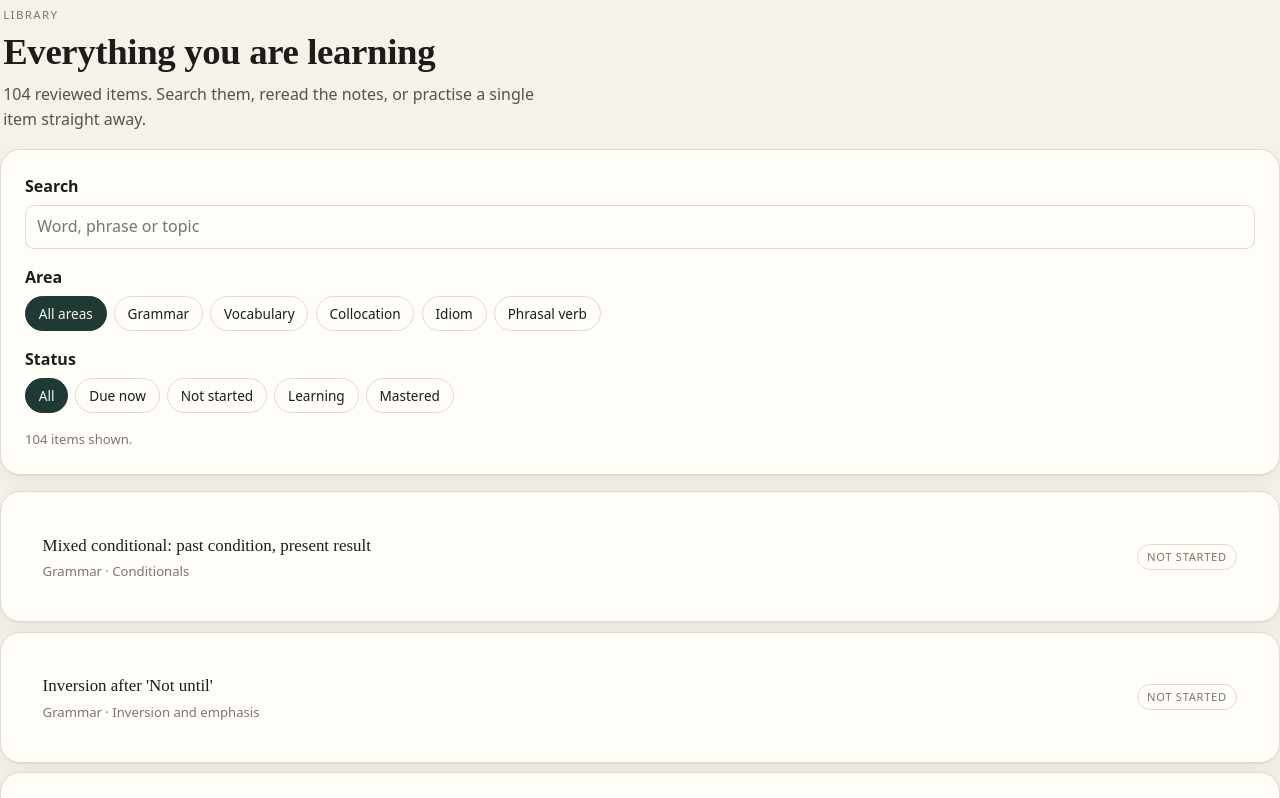
Scenario: LibraryScreen › filters by search text
In the search field labelled "Search": (640, 227) [25, 205, 1255, 249], type "ubiquitous"
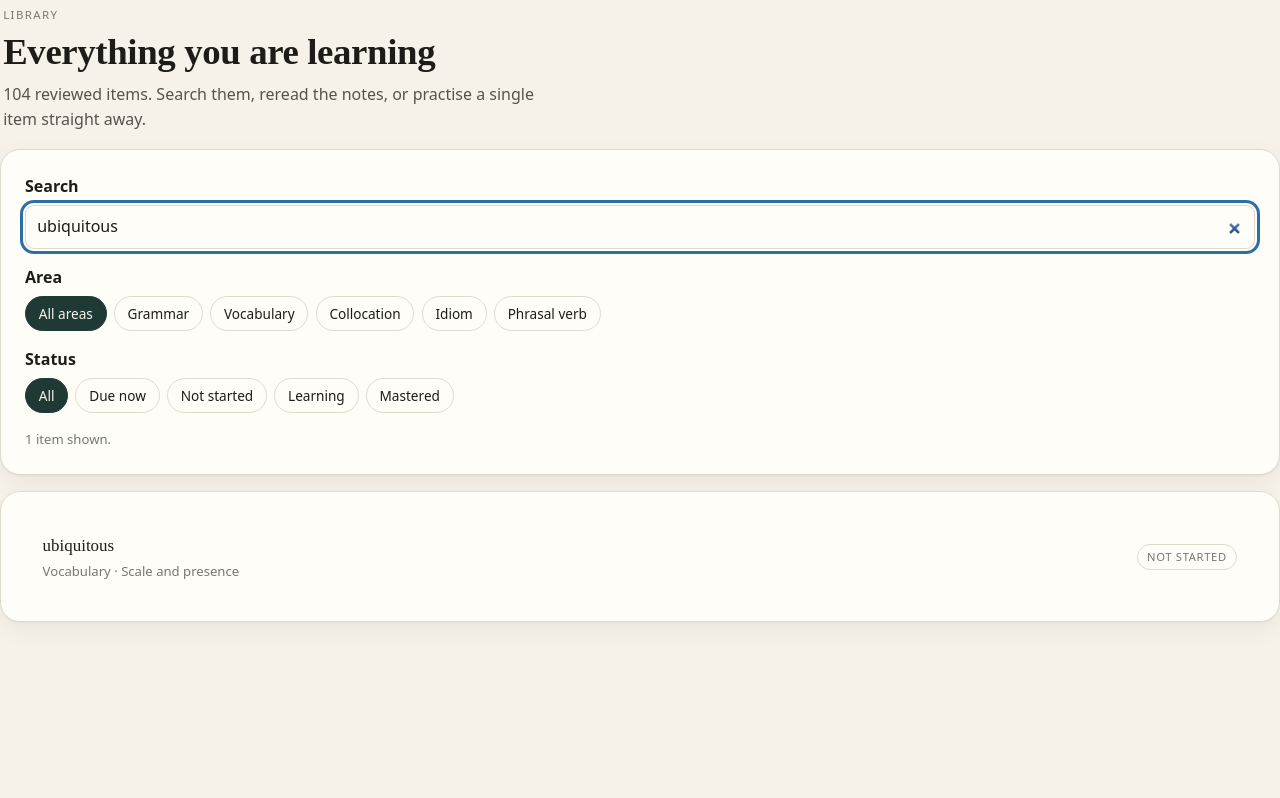
Check: the button "ubiquitous Vocabulary · Scale and presence Not started" is shown, box [25, 516, 1255, 597]
Check: the text "1 item shown." is shown, box [25, 430, 111, 448]
